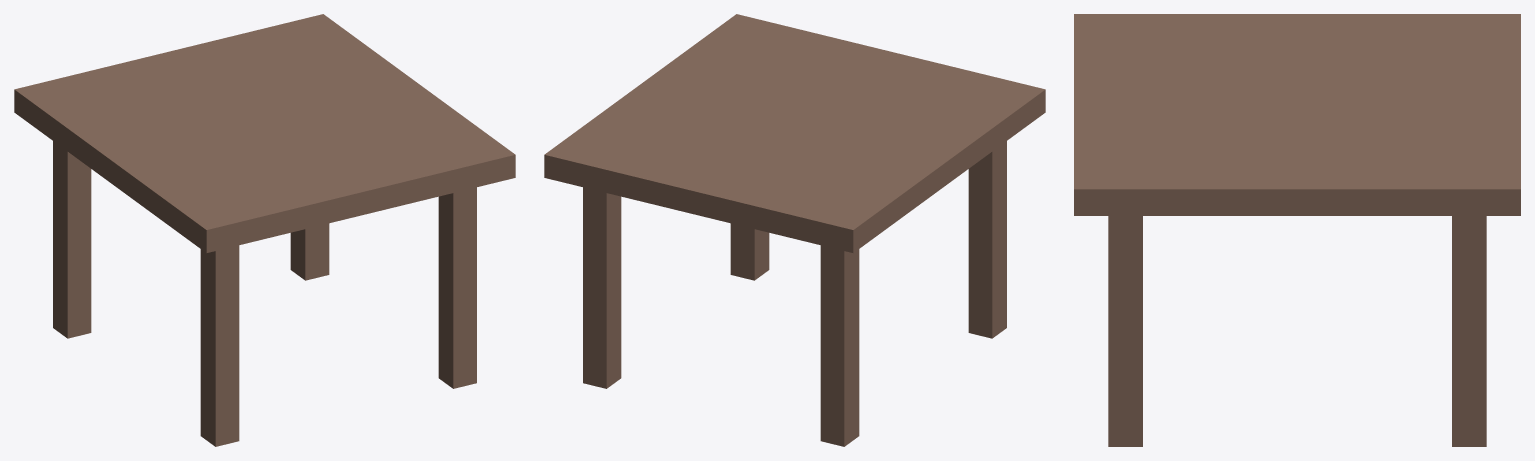
The model's file is MesaSimple.fbx.
3 renders of one model, left to right at view 1: azimuth 30°, elevation 25°; view 2: azimuth 150°, elevation 25°; view 3: azimuth 270°, elevation 25°, orthographic. The views are drawn at different scales.
Parts seen in each view (by area): view 1: pCube101; view 2: pCube101; view 3: pCube101.
Boxes of the visible parts, bbox=[...] form: pCube101: bbox=[14, 14, 515, 446]; pCube101: bbox=[544, 14, 1045, 446]; pCube101: bbox=[1074, 14, 1520, 446].
Size of the model in its own units: 5.71 by 4.12 by 6.15.
